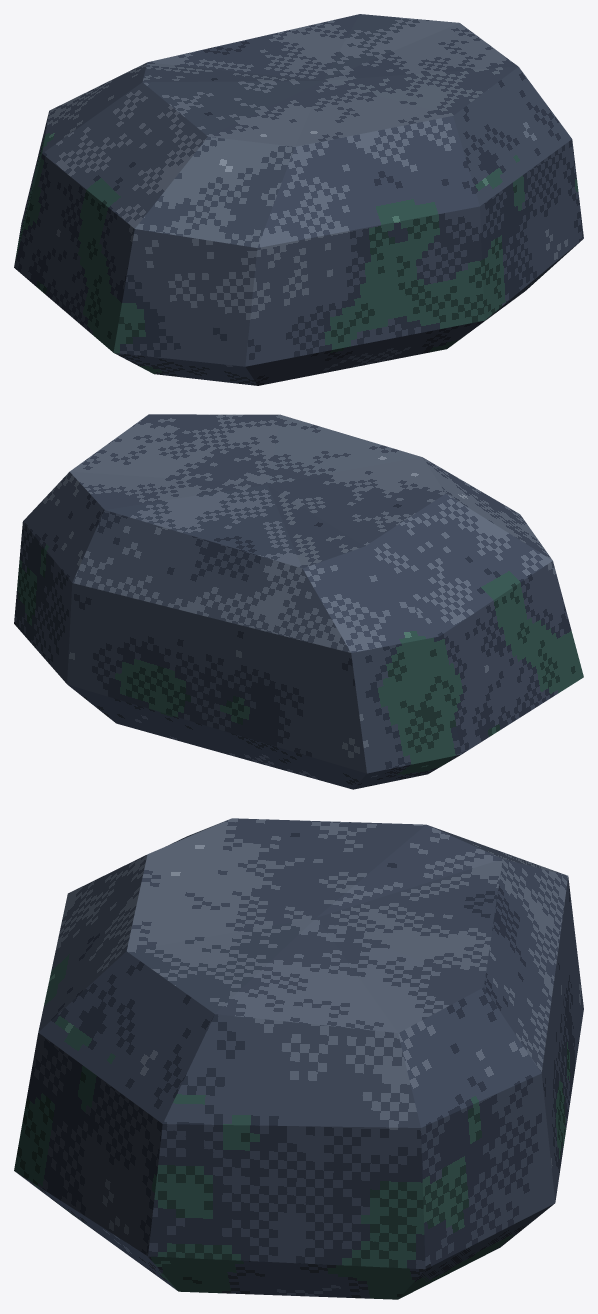
File: SM_Prop_GalleryChippedBlock_01.glb
3 views of the same model, one above another, from view 1: azimuth 30°, elevation 25°; view 2: azimuth 150°, elevation 25°; view 3: azimuth 270°, elevation 25° (orthographic). The views are drawn at different scales.
Parts seen in each view (by area): view 1: stone_chipped_block; view 2: stone_chipped_block; view 3: stone_chipped_block.
Part boxes in pixels (<box>): stone_chipped_block: <box>14,14,583,385</box>; stone_chipped_block: <box>14,414,583,789</box>; stone_chipped_block: <box>14,818,583,1299</box>.
Bounding box in the file's own units: 0.6138 × 0.262 × 0.48.
1 material, 1 textured.
